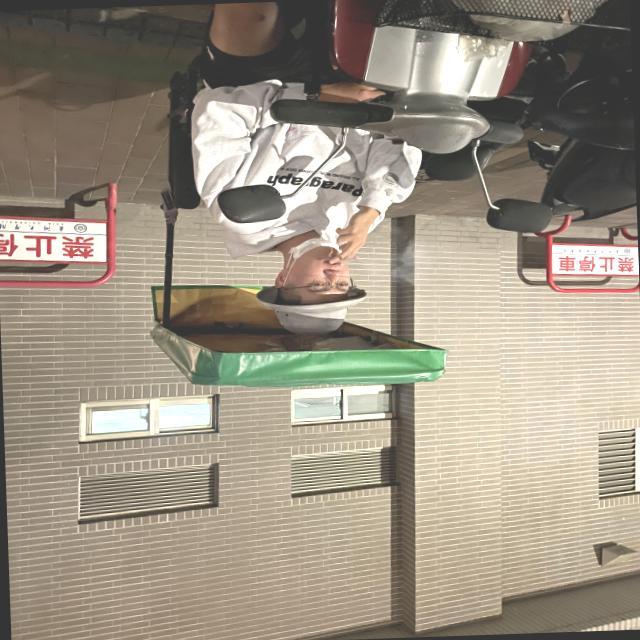smoke: (328, 256, 347, 268)
